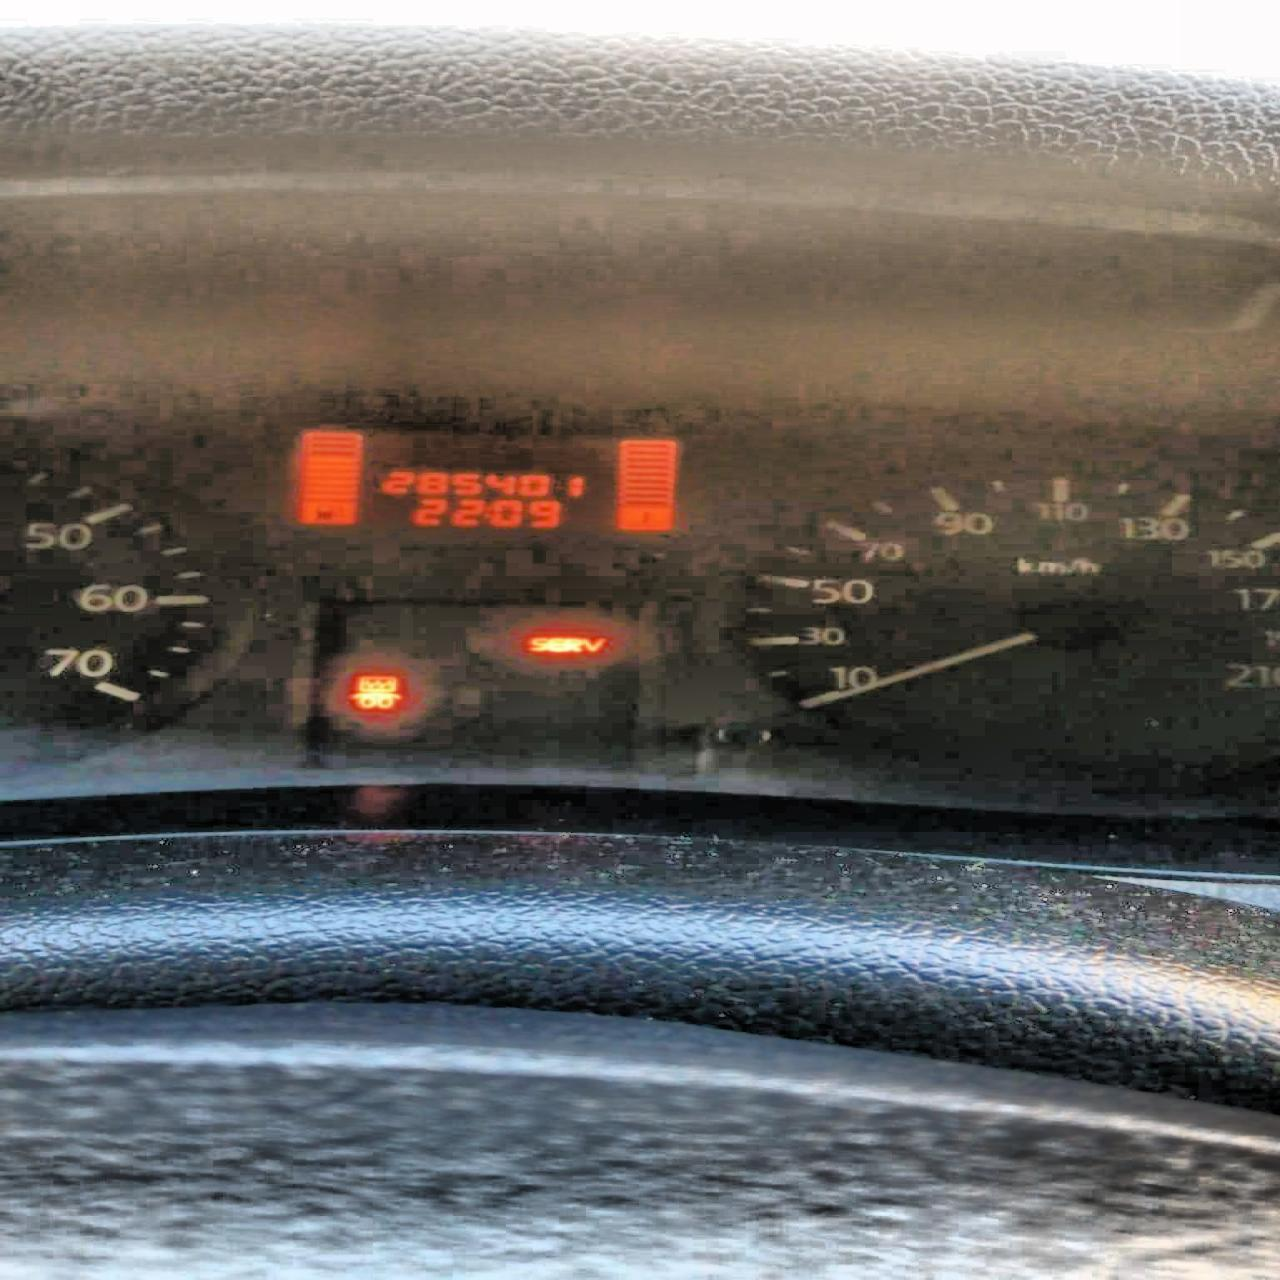0: (488, 498, 522, 526), (516, 475, 550, 496)
1: (570, 477, 583, 496)
2: (413, 497, 447, 524), (451, 498, 483, 525), (381, 470, 413, 492)
4: (484, 472, 516, 495)
5: (451, 472, 481, 493)
8: (418, 472, 448, 493)
9: (530, 501, 559, 527)
odometer: (279, 424, 682, 533)
